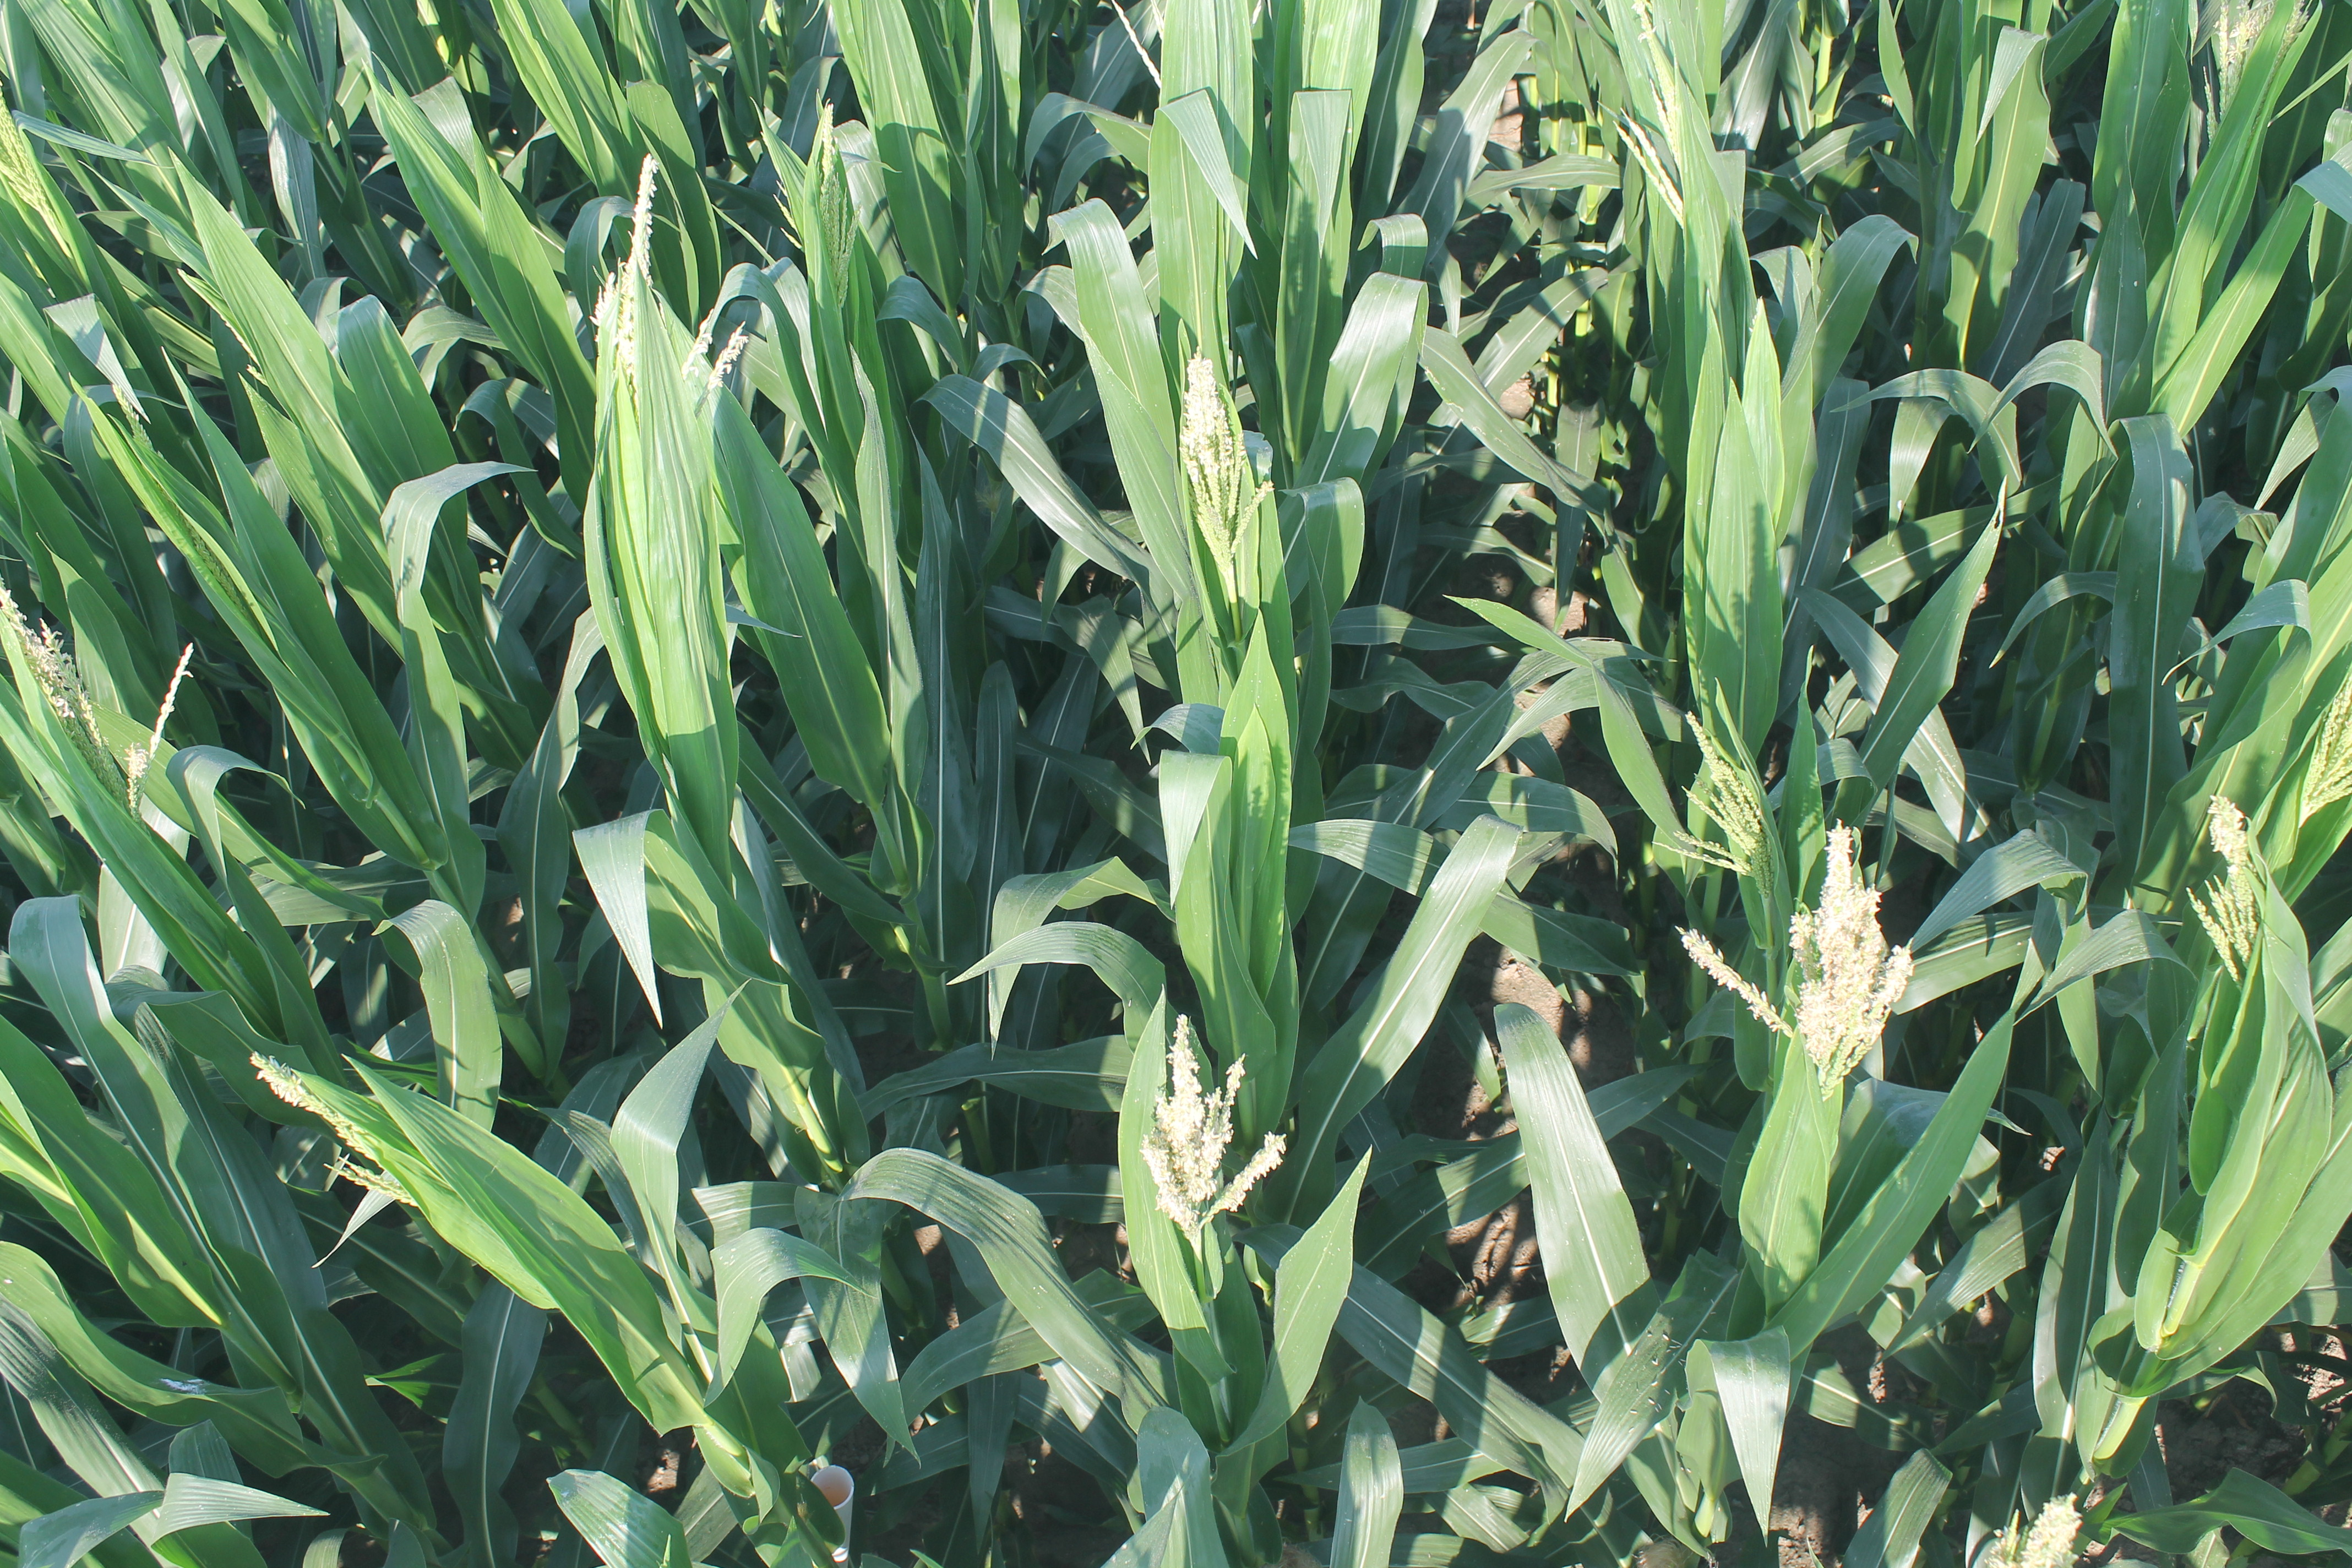Maize: (1134, 1008, 1295, 1225), (1771, 831, 1892, 1083), (0, 581, 122, 765), (1171, 343, 1272, 546), (1668, 705, 1762, 870), (2180, 800, 2268, 966), (2296, 654, 2352, 831), (2217, 0, 2270, 94)
